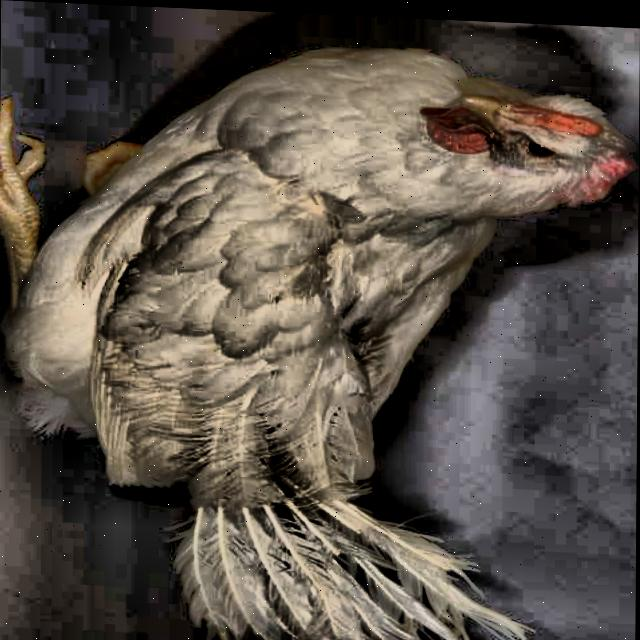Newcastle: (0, 29, 634, 640)
